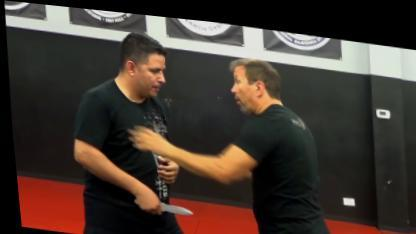knife: (126, 188, 194, 216)
